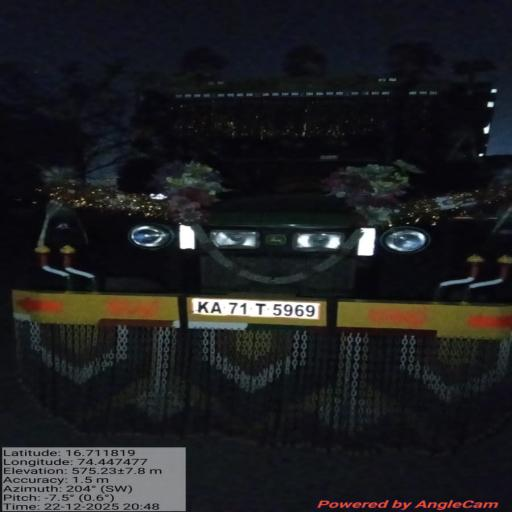number_plate: (180, 296, 342, 325)
